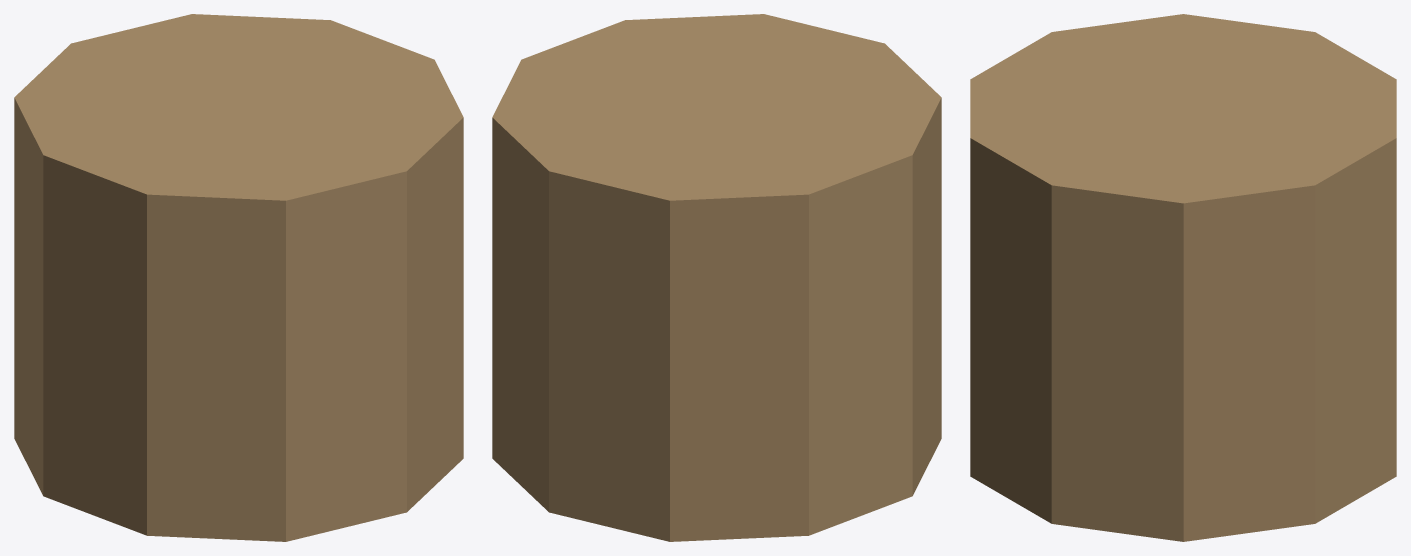
Rendered from Stump.glb.
3 renders of one model, left to right at view 1: azimuth 30°, elevation 25°; view 2: azimuth 150°, elevation 25°; view 3: azimuth 270°, elevation 25°, orthographic.
Parts seen in each view (by area): view 1: filler_Stump; view 2: filler_Stump; view 3: filler_Stump.
Boxes of the visible parts, box(x1,y1,x2,y2) form: filler_Stump: box(14, 14, 463, 541); filler_Stump: box(492, 14, 941, 541); filler_Stump: box(970, 14, 1396, 541).
Size of the model in its own units: 0.84 by 0.7 by 0.7989.
